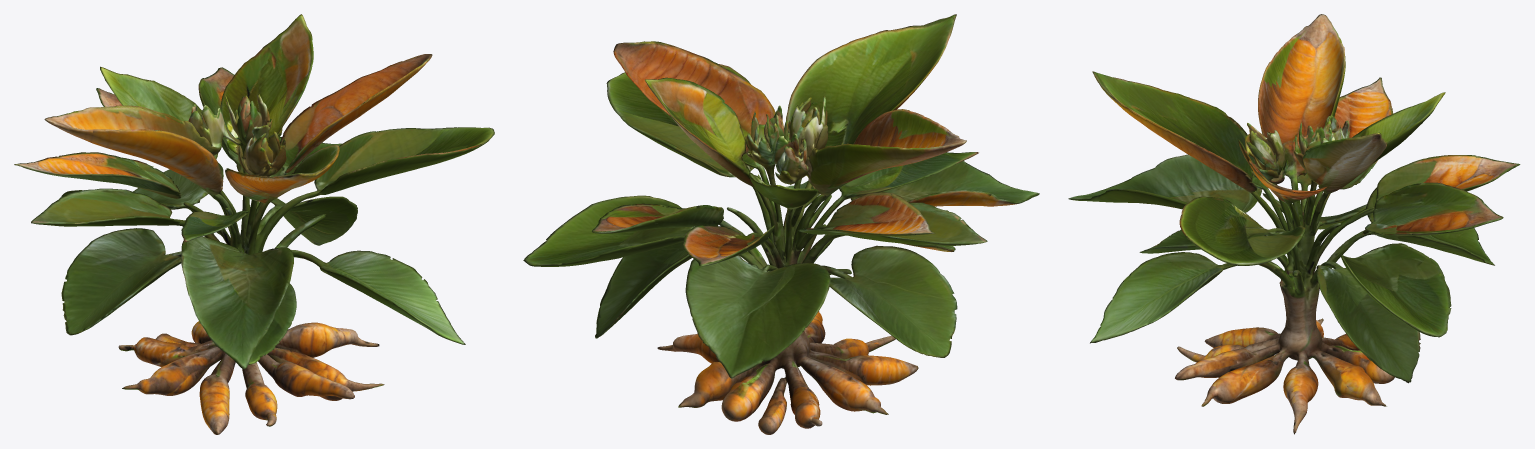
Rendered from Turmeric_GLTF.gltf.
3 views of the same model, side by side, from view 1: azimuth 30°, elevation 25°; view 2: azimuth 150°, elevation 25°; view 3: azimuth 270°, elevation 25° (orthographic). The views are drawn at different scales.
Visible parts, largest first — view 1: Node #0; view 2: Node #0; view 3: Node #0.
Boxes of the visible parts, bbox=[...] form: Node #0: bbox=[14, 14, 494, 434]; Node #0: bbox=[523, 14, 1039, 434]; Node #0: bbox=[1068, 14, 1520, 434].
Size of the model in its own units: 2 by 1.45 by 2.
Materials: 1 (1 with a texture image).
